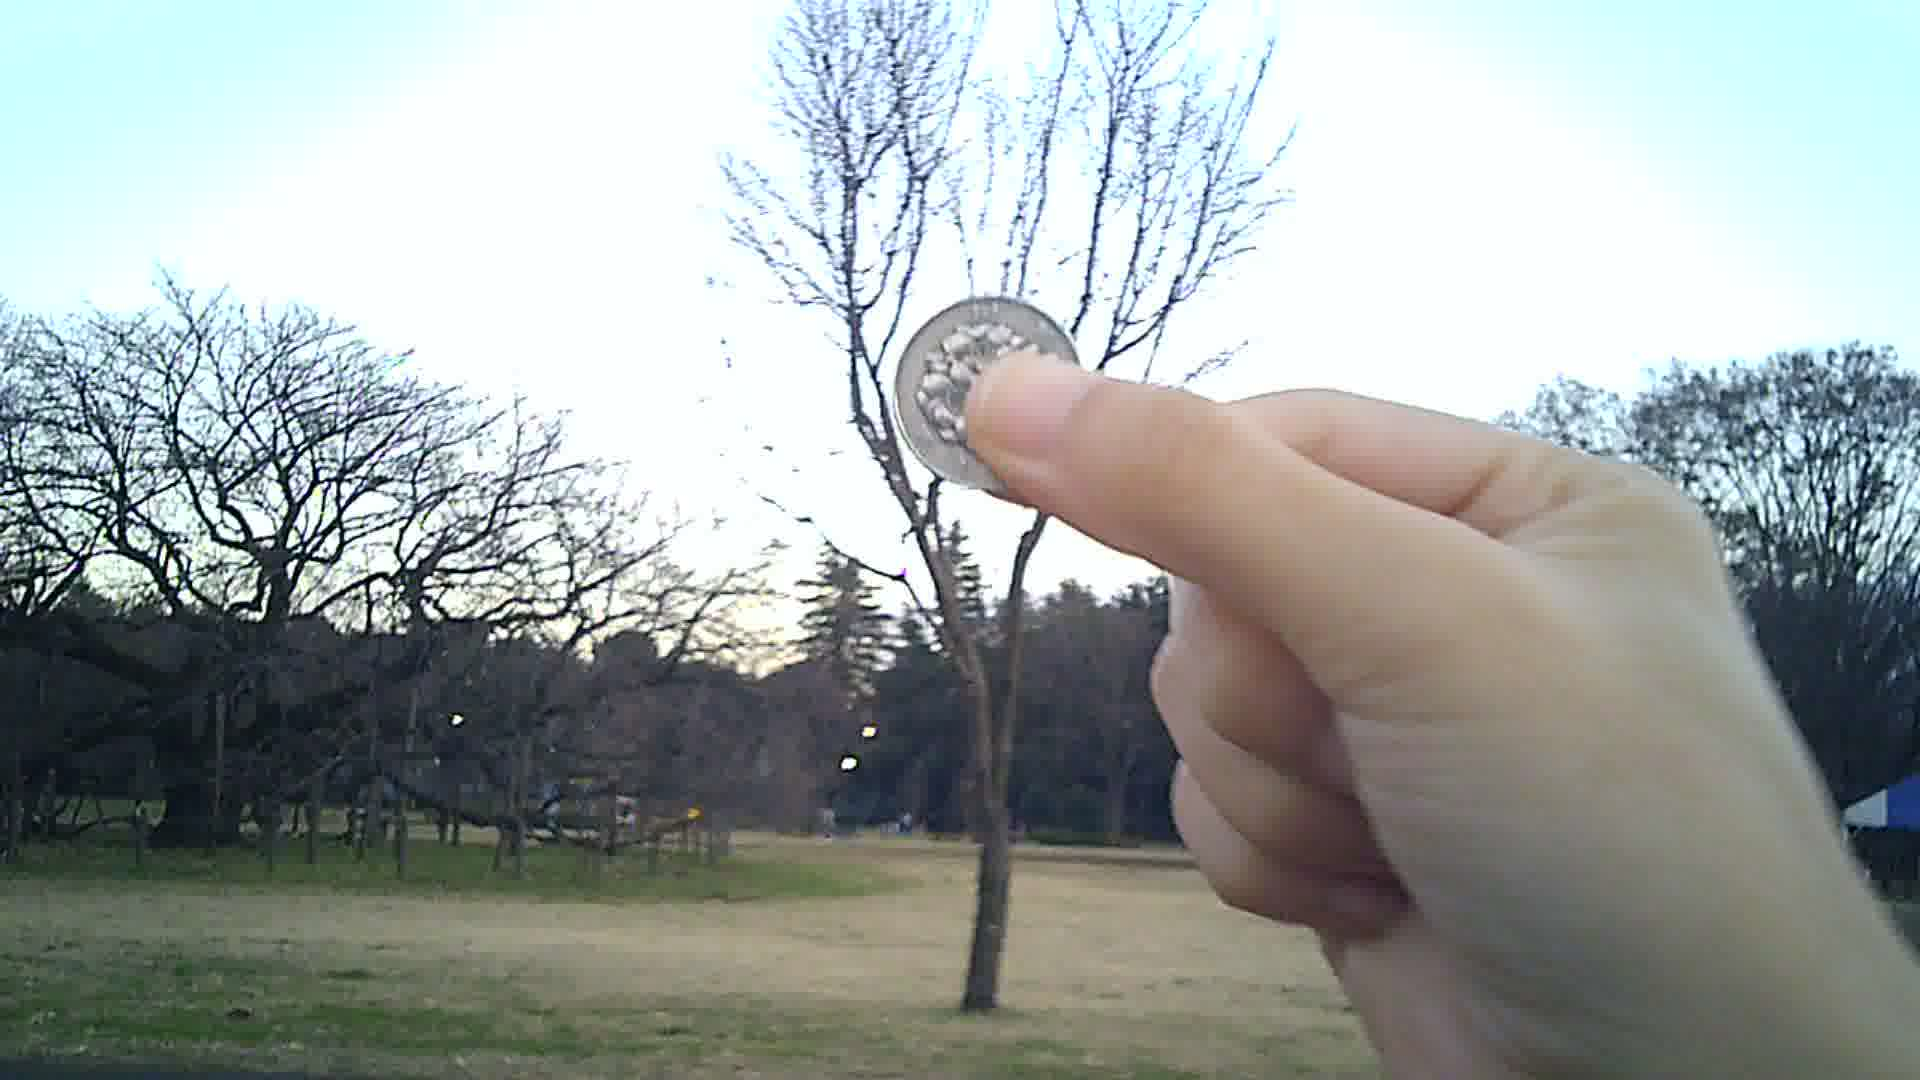100 Yen: (891, 284, 1087, 488)
